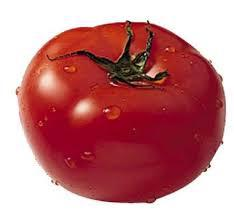tomato: (17, 22, 226, 202)
